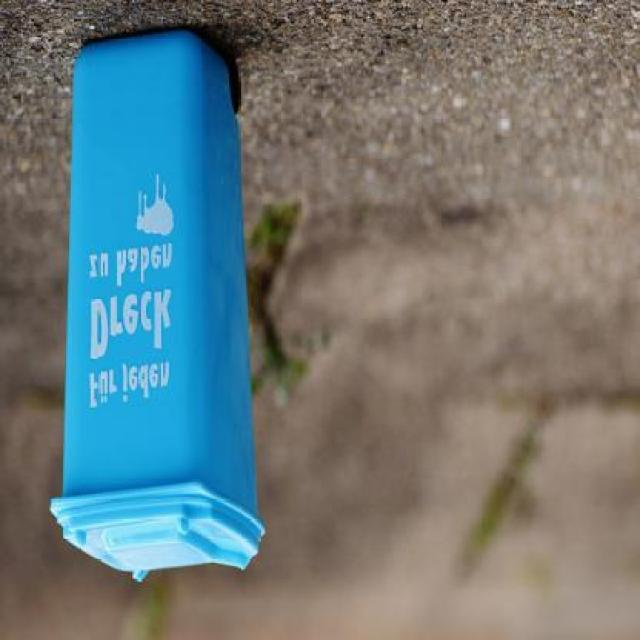garbage container: (39, 24, 282, 593)
